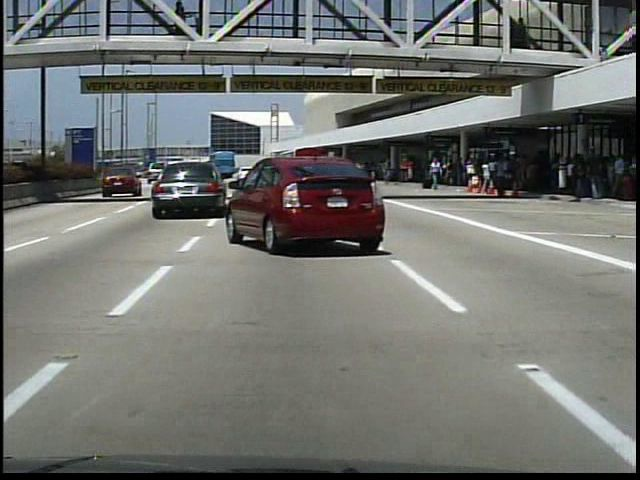person: (492, 154, 513, 204), (429, 159, 446, 193), (171, 5, 188, 38), (405, 159, 415, 185)
